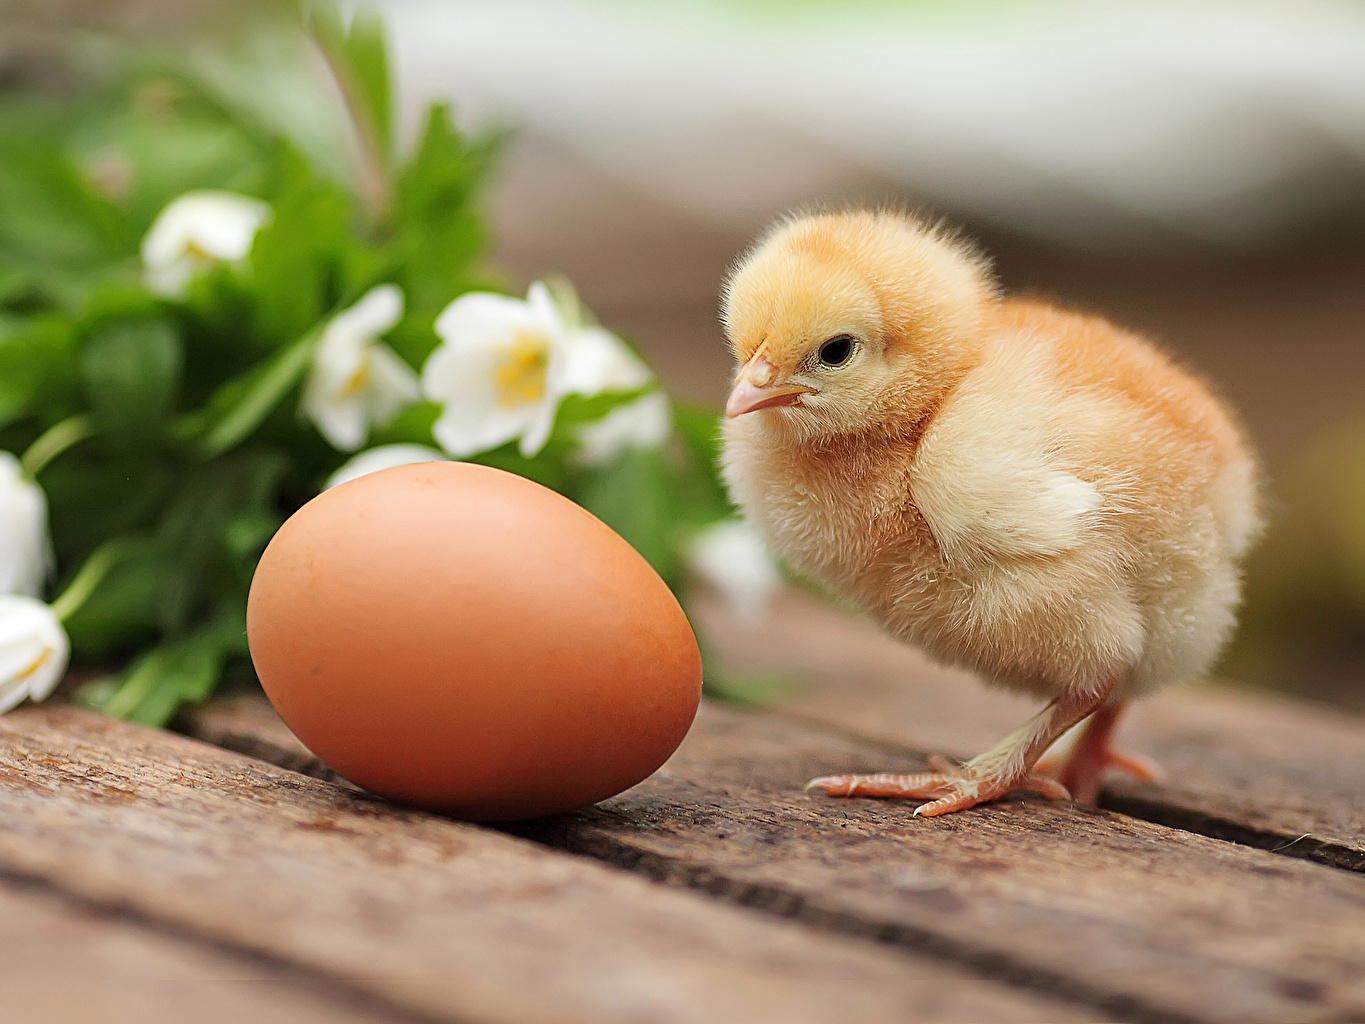Egg: (231, 436, 747, 869)
